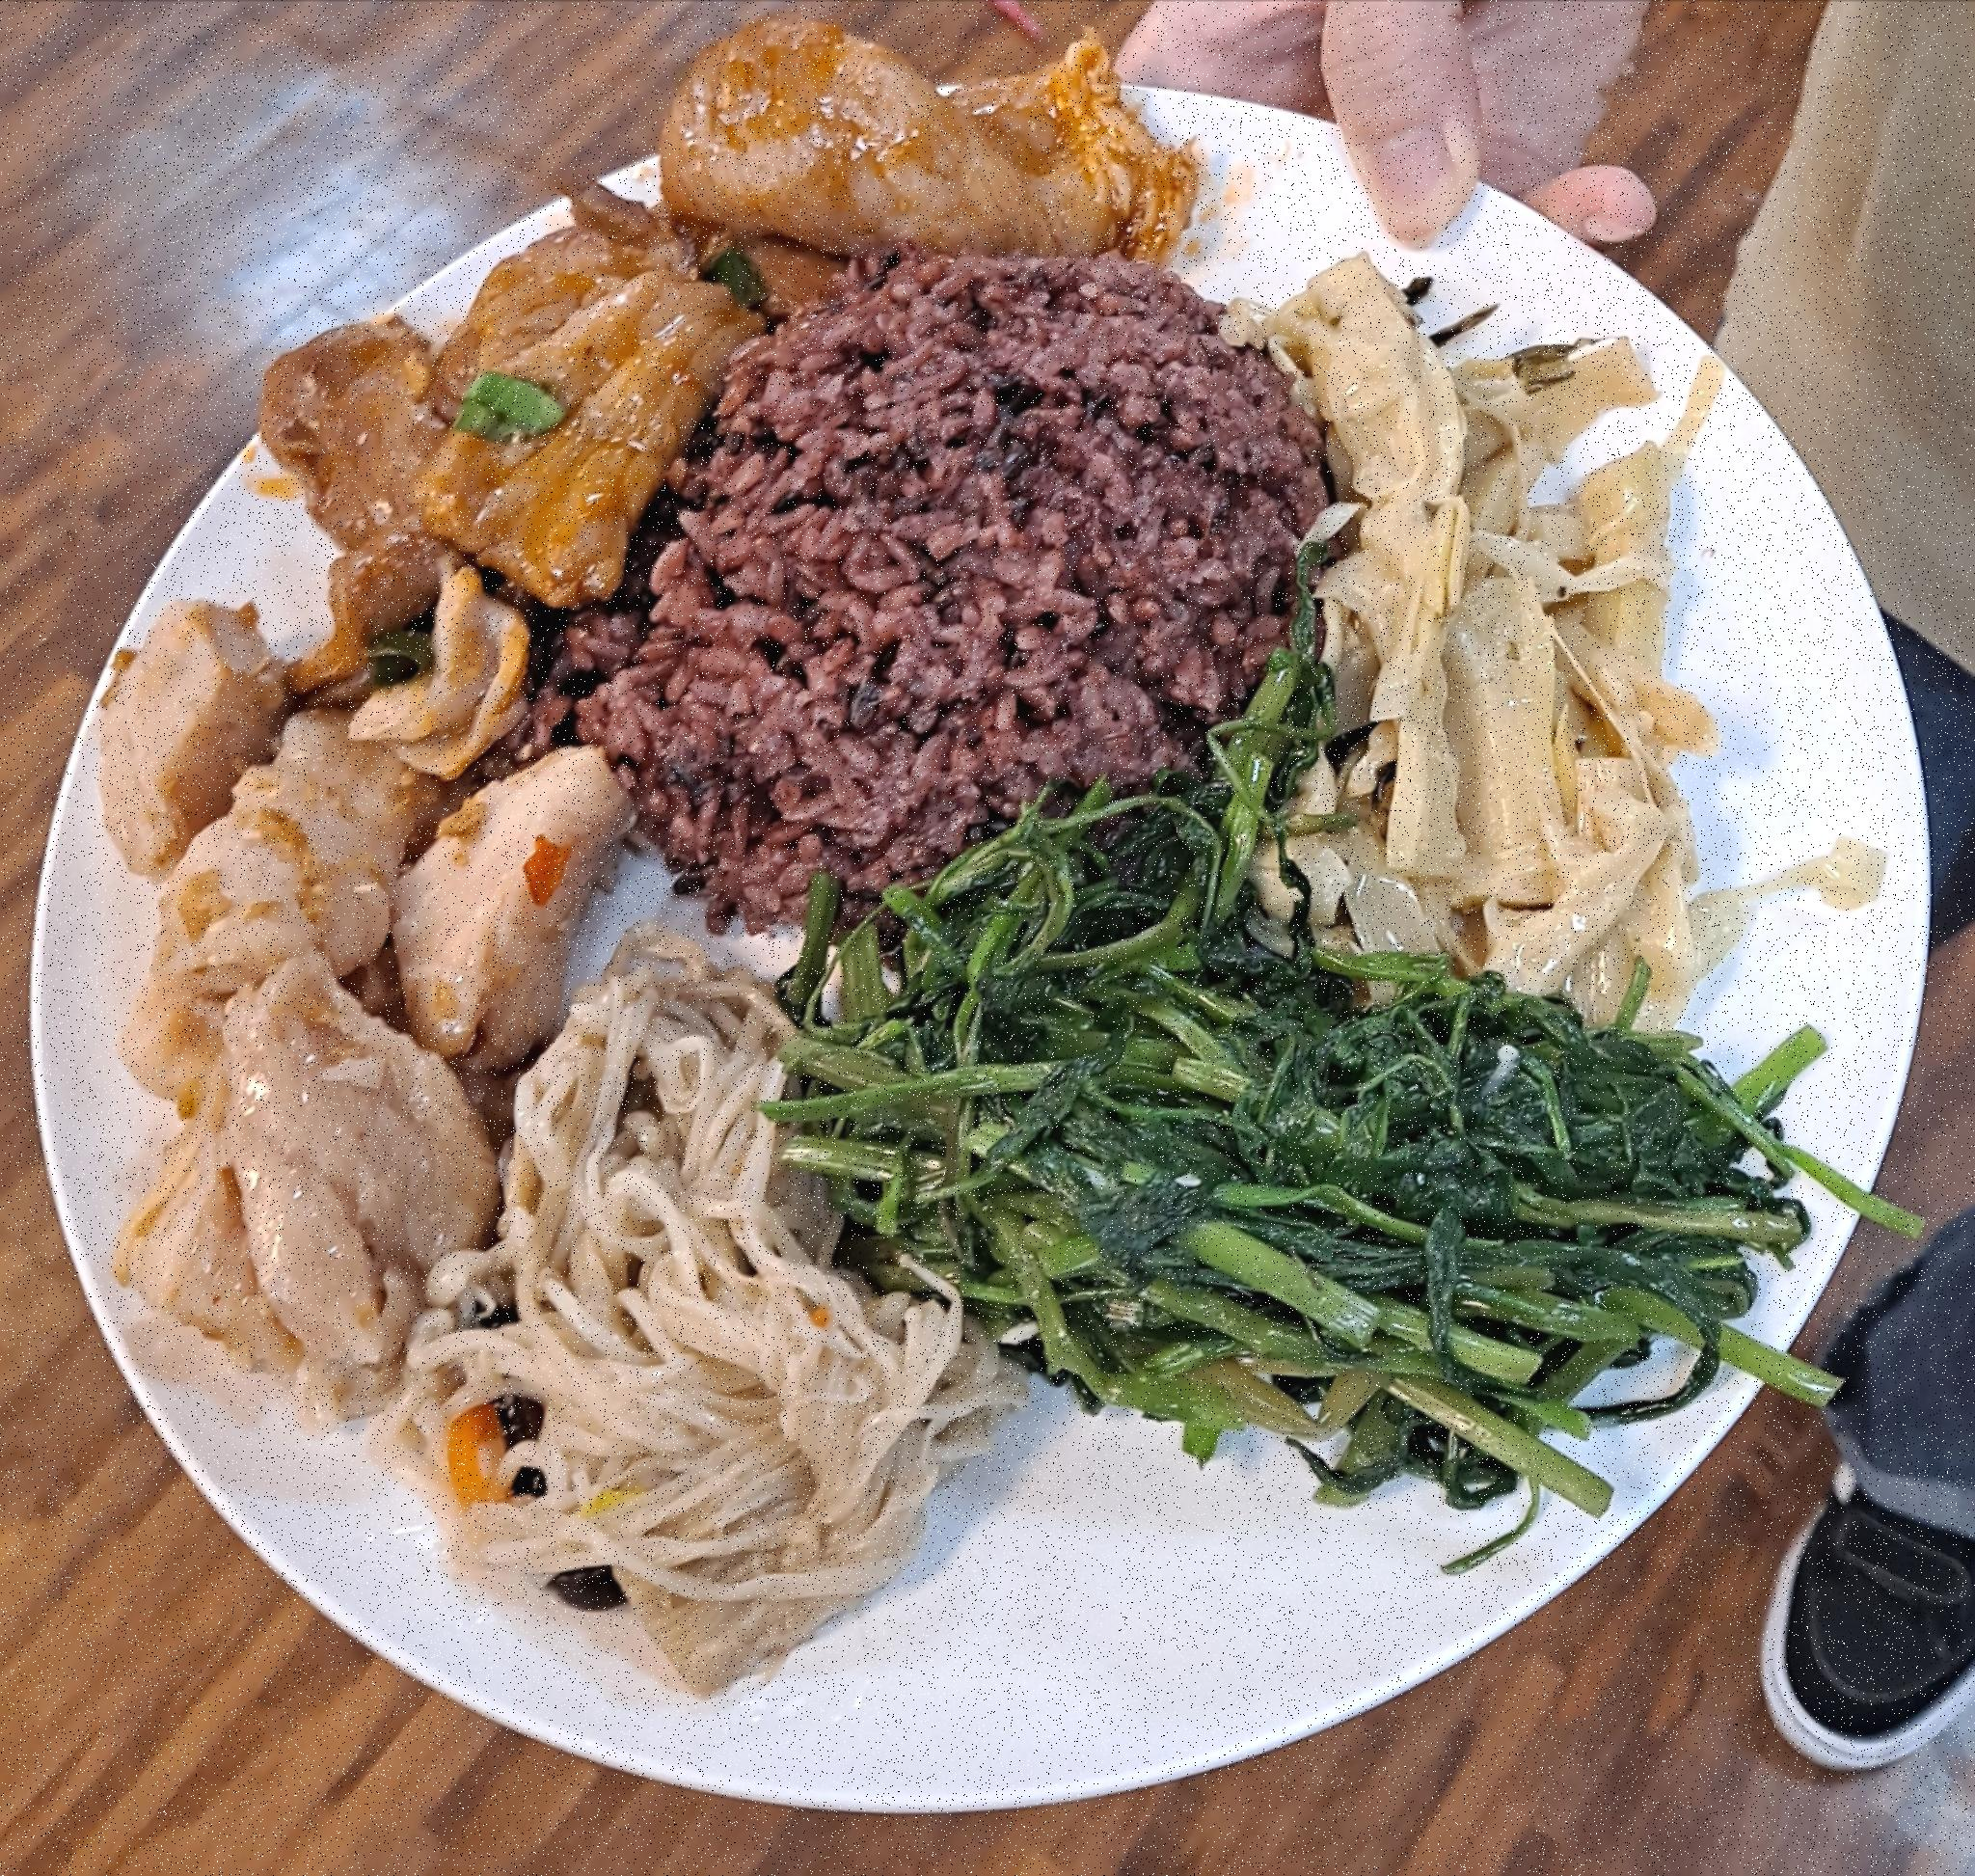big fried chicken leg: (21, 59, 1975, 1826)
braised fish: (613, 256, 1300, 937)
braised fish fillet: (783, 796, 1815, 1506), (431, 933, 981, 1701), (1259, 262, 1732, 1022)
braised pork: (276, 26, 1180, 682), (88, 588, 639, 1414)
